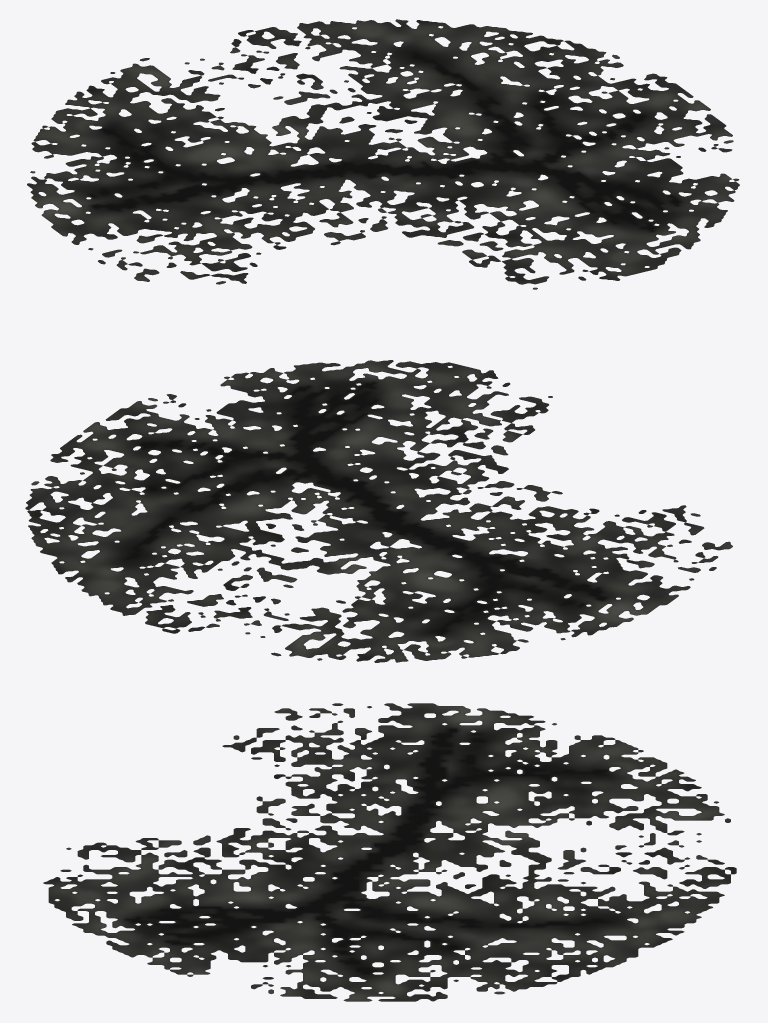
File: decal_crack_02.glb
3 views of the same model, one above another, from view 1: azimuth 30°, elevation 25°; view 2: azimuth 150°, elevation 25°; view 3: azimuth 270°, elevation 25° (orthographic).
Parts seen in each view (by area): view 1: decal_crack_02; view 2: decal_crack_02; view 3: decal_crack_02.
Boxes of the visible parts, x1,y1,x2,y2 form: decal_crack_02: (27,19,739,289); decal_crack_02: (25,360,732,662); decal_crack_02: (43,703,736,1001).
Size of the model in its own units: 1.1 by 0 by 1.1.
1 material, 1 textured.
